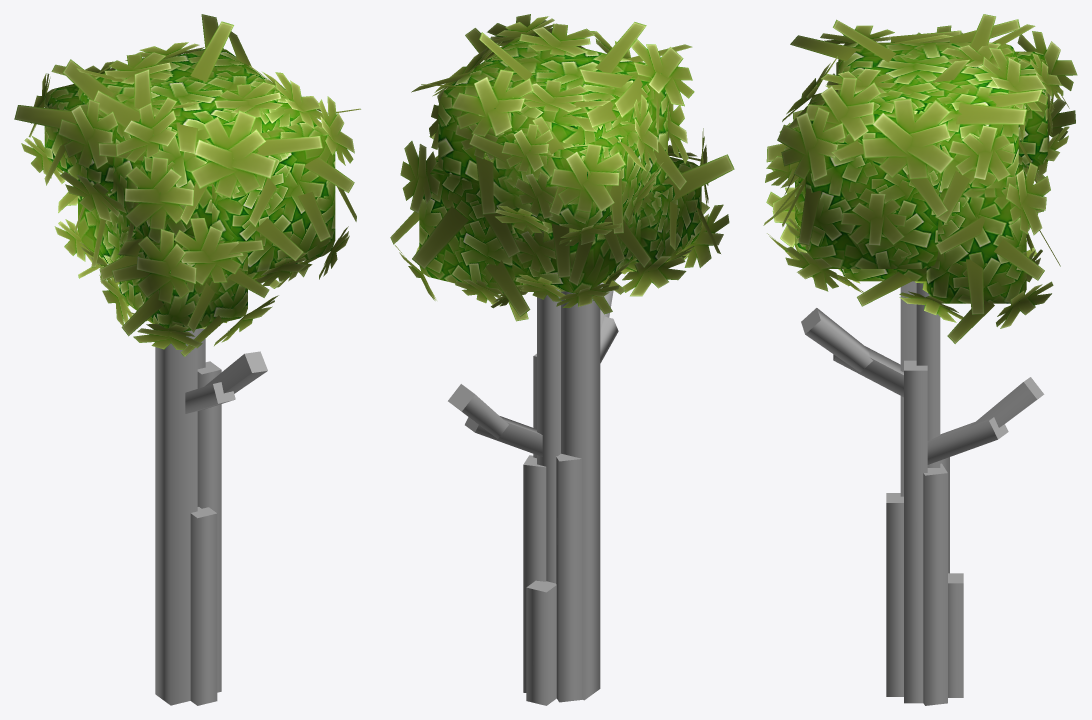
The model's file is SM_Tree_01_A.fbx.
The picture shows the model from 3 angles, left to right: view 1: azimuth 30°, elevation 25°; view 2: azimuth 150°, elevation 25°; view 3: azimuth 270°, elevation 25°; orthographic projection. The views are drawn at different scales.
Visible parts, largest first — view 1: polySurface607; view 2: polySurface607; view 3: polySurface607.
Boxes of the visible parts, x1,y1,x2,y2 form: polySurface607: (14,14,360,705); polySurface607: (390,14,734,705); polySurface607: (763,14,1077,705).
Size of the model in its own units: 113 by 263 by 114.
